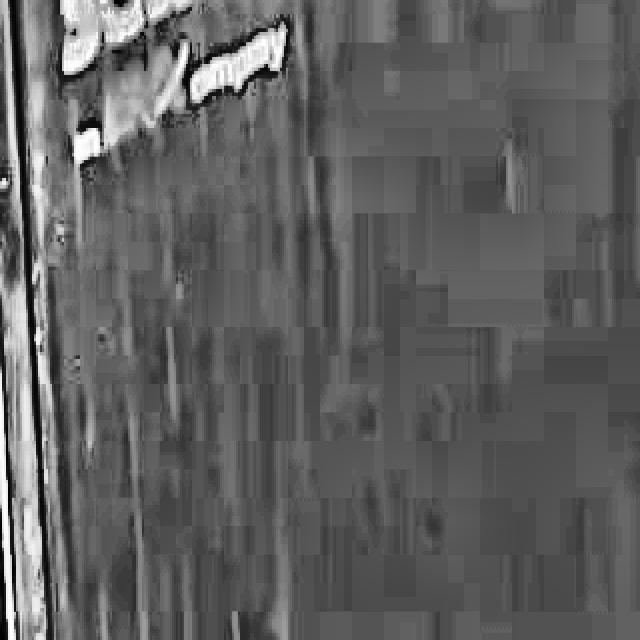Gerbong: (0, 0, 640, 640), (0, 0, 54, 640)
